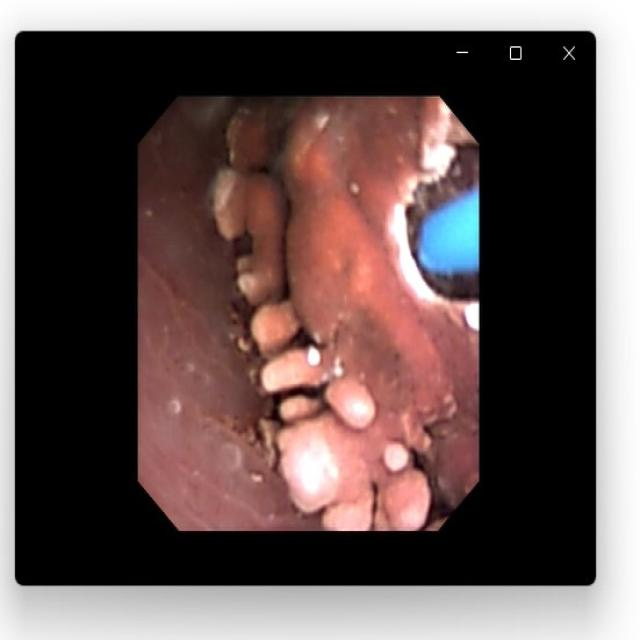fiber: (422, 197, 473, 268)
stone: (214, 103, 474, 525)
tissue: (144, 111, 282, 523)
